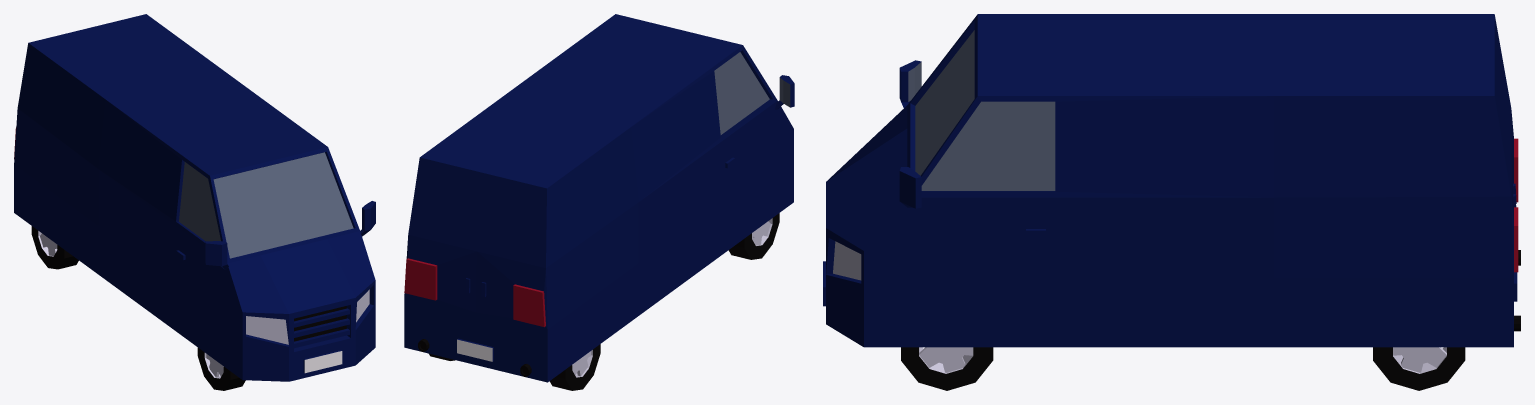
Rendered from panel-van.glb.
The picture shows the model from 3 angles, left to right: view 1: azimuth 30°, elevation 25°; view 2: azimuth 150°, elevation 25°; view 3: azimuth 270°, elevation 25°; orthographic projection. The views are drawn at different scales.
Visible parts, largest first — view 1: panel-van; view 2: panel-van; view 3: panel-van.
Part boxes in pixels (<box>): panel-van: <box>14,14,375,390</box>; panel-van: <box>404,14,794,390</box>; panel-van: <box>823,14,1520,390</box>.
Size of the model in its own units: 2 by 2.29 by 5.
